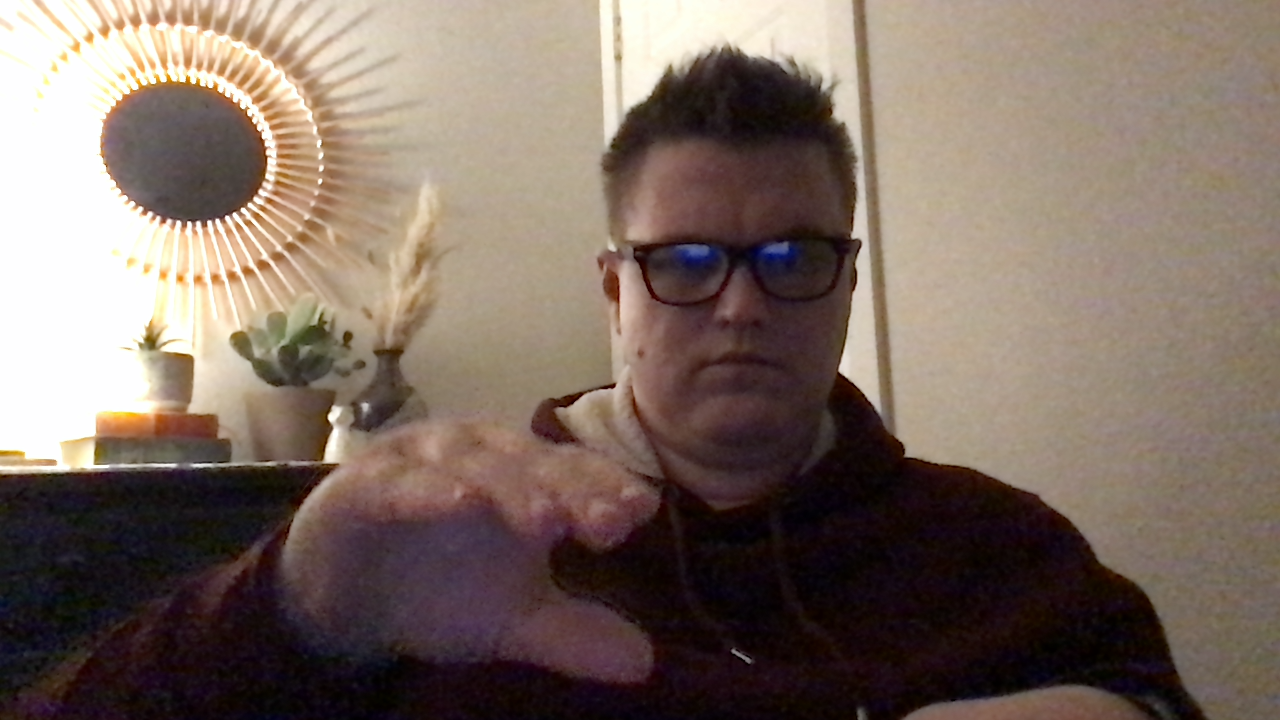no: (282, 412, 670, 698)
